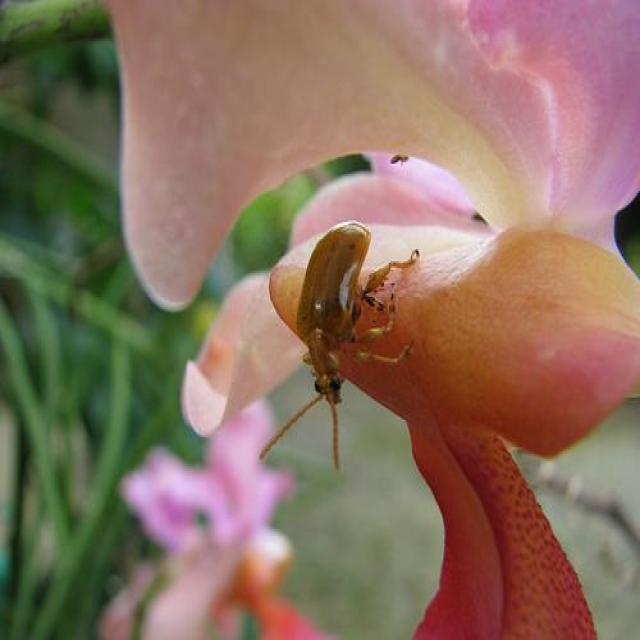BlisterBeetle-Adult-: (264, 213, 426, 428)
